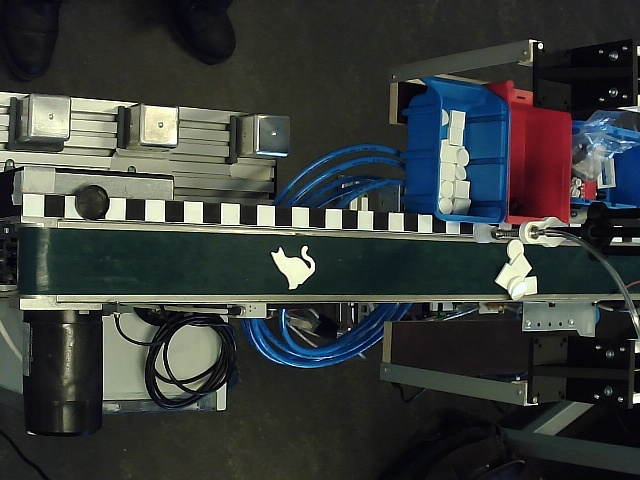cat: (270, 245, 316, 291)
